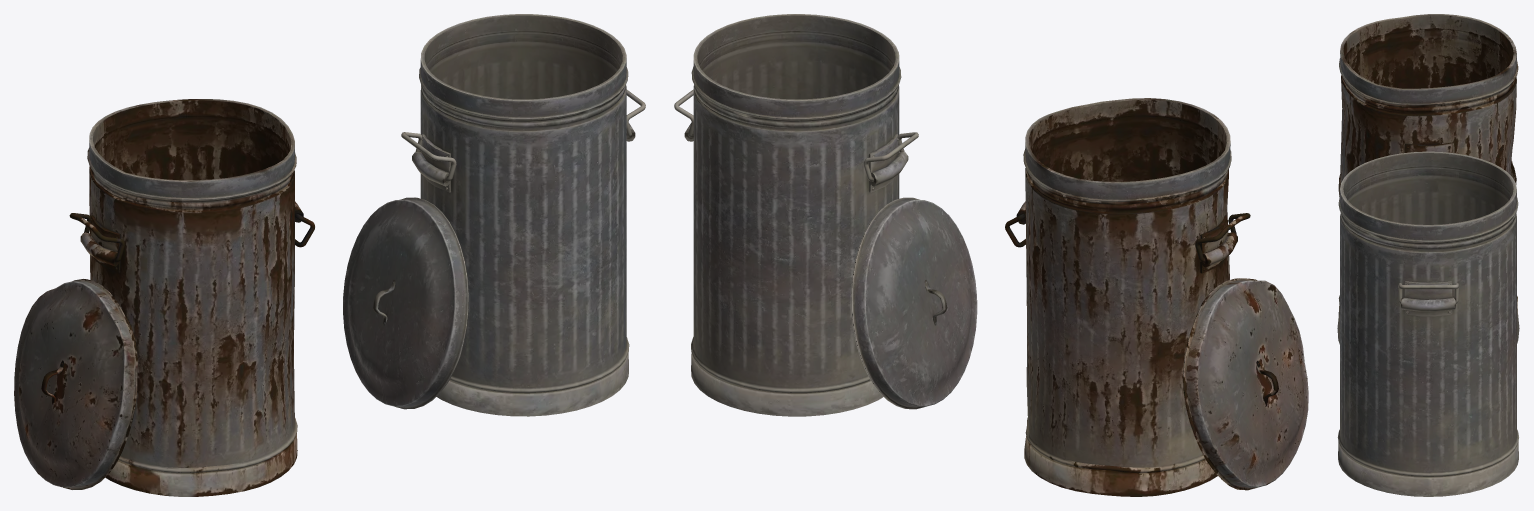
File: trash_can.glb
3 renders of one model, left to right at view 1: azimuth 30°, elevation 25°; view 2: azimuth 150°, elevation 25°; view 3: azimuth 270°, elevation 25°, orthographic. The views are drawn at different scales.
Visible parts, largest first — view 1: metal_trash_can, metal_trash_can_rust, metal_trash_can_lid, metal_trash_can_rust_lid; view 2: metal_trash_can, metal_trash_can_rust, metal_trash_can_lid, metal_trash_can_rust_lid; view 3: metal_trash_can, metal_trash_can_rust, metal_trash_can_handle_right.
Part boxes in pixels (x1,y1,x2,y2): metal_trash_can: [412, 14, 635, 416]; metal_trash_can_rust: [80, 99, 303, 496]; metal_trash_can_lid: [343, 197, 468, 409]; metal_trash_can_rust_lid: [14, 279, 137, 489]; metal_trash_can: [684, 14, 908, 416]; metal_trash_can_rust: [1016, 98, 1237, 496]; metal_trash_can_lid: [851, 197, 977, 409]; metal_trash_can_rust_lid: [1183, 278, 1308, 490]; metal_trash_can: [1337, 151, 1518, 496]; metal_trash_can_rust: [1338, 14, 1518, 316]; metal_trash_can_handle_right: [1398, 283, 1458, 303].
Bounding box in the file's own units: 1.78 × 0.9062 × 0.5543.
Materials: 2 (2 with a texture image).
